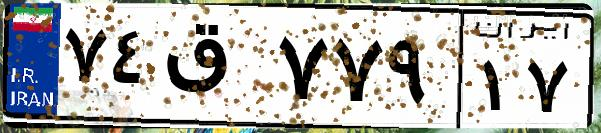1: (475, 38, 525, 113)
4: (110, 28, 158, 98)
7: (270, 28, 330, 110), (330, 28, 385, 110), (57, 26, 110, 100), (525, 38, 570, 115)
9: (385, 28, 445, 110)
ق: (158, 20, 270, 120)
